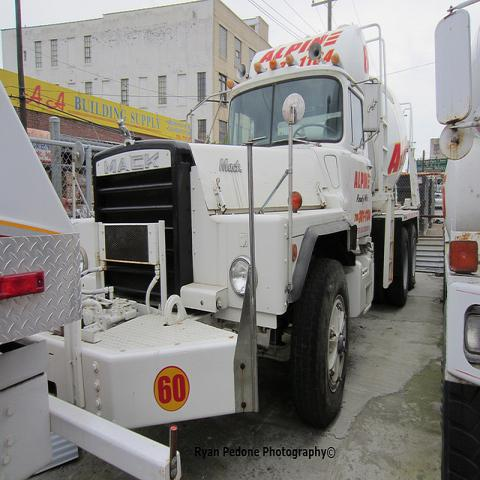truck: (28, 23, 422, 433), (1, 81, 179, 471), (433, 1, 479, 473)
